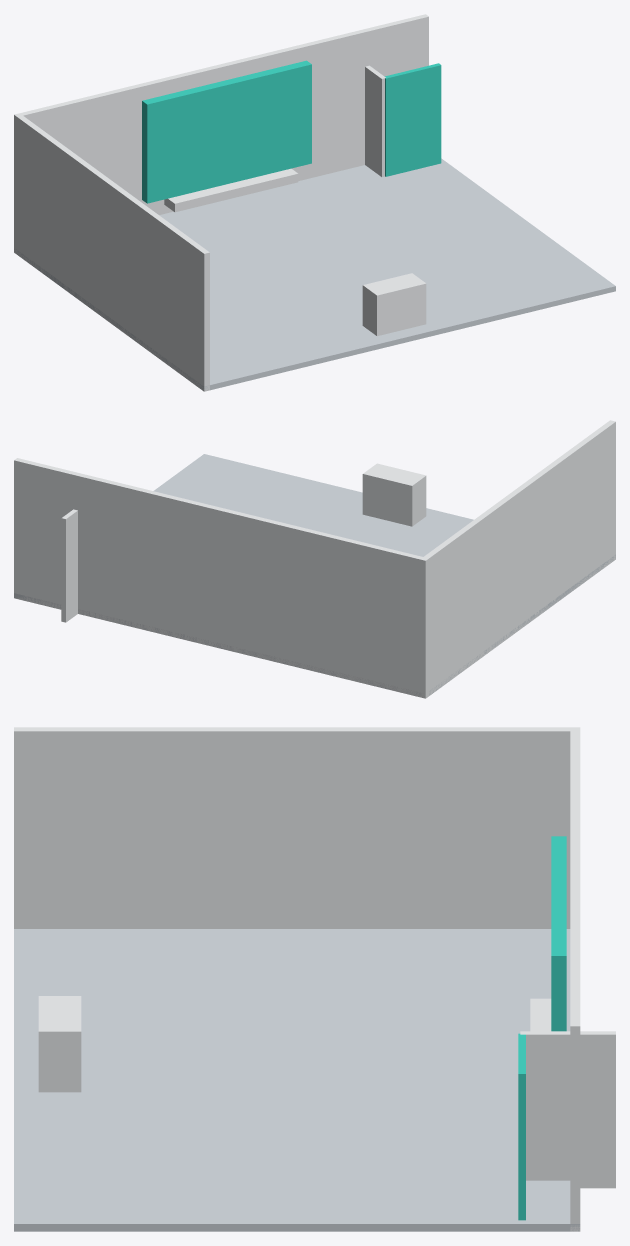
The picture shows the model from 3 angles, top to bottom: view 1: azimuth 30°, elevation 25°; view 2: azimuth 150°, elevation 25°; view 3: azimuth 270°, elevation 25°; orthographic projection. The views are drawn at different scales.
Visible parts, largest first — view 1: Exhibition Booth Concept; view 2: Exhibition Booth Concept; view 3: Exhibition Booth Concept.
Part boxes in pixels (x1,y1,x2,y2): Exhibition Booth Concept: (14,14,615,391); Exhibition Booth Concept: (14,420,615,698); Exhibition Booth Concept: (14,727,615,1231).
Size of the model in its own units: 10 by 3.2 by 8.51.
